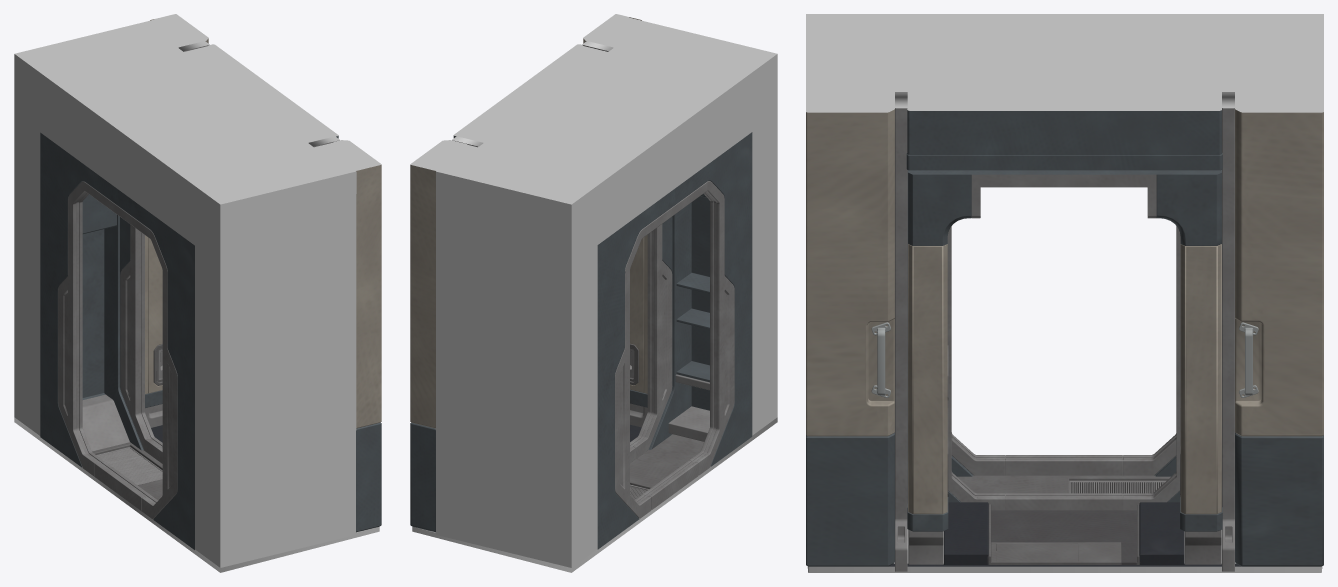
File: SM_RoomStyle01_Door.fbx
The picture shows the model from 3 angles, left to right: view 1: azimuth 30°, elevation 25°; view 2: azimuth 150°, elevation 25°; view 3: azimuth 270°, elevation 25°; orthographic projection. The views are drawn at different scales.
Visible parts, largest first — view 1: SM_RoomStyle01_Door_LOD0; view 2: SM_RoomStyle01_Door_LOD0; view 3: SM_RoomStyle01_Door_LOD0.
Part boxes in pixels (left/top/right/bottom): SM_RoomStyle01_Door_LOD0: left=14, top=14, right=381, bottom=572; SM_RoomStyle01_Door_LOD0: left=410, top=14, right=777, bottom=572; SM_RoomStyle01_Door_LOD0: left=806, top=14, right=1323, bottom=572.
Bounding box in the file's own units: 142 × 300 × 296.
2 materials, 1 textured.
